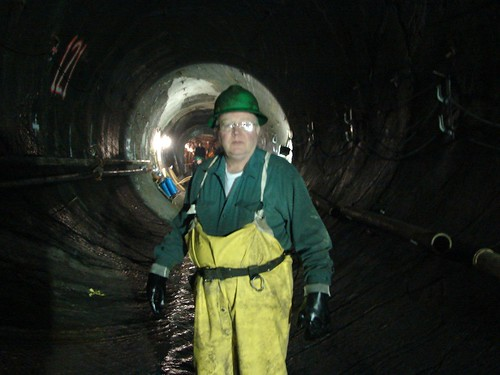person hardhat: (148, 86, 332, 365)
